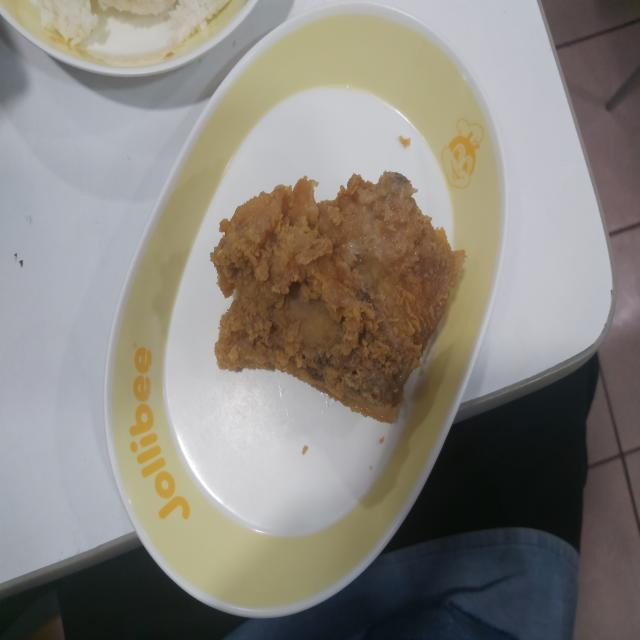Chicken -Fried Chicken-: (205, 168, 468, 440)
